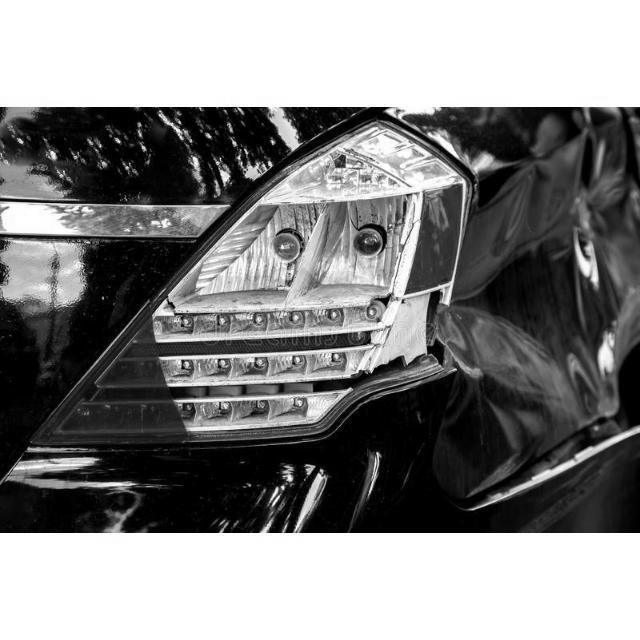Taillight-Damage: (71, 124, 463, 471)
